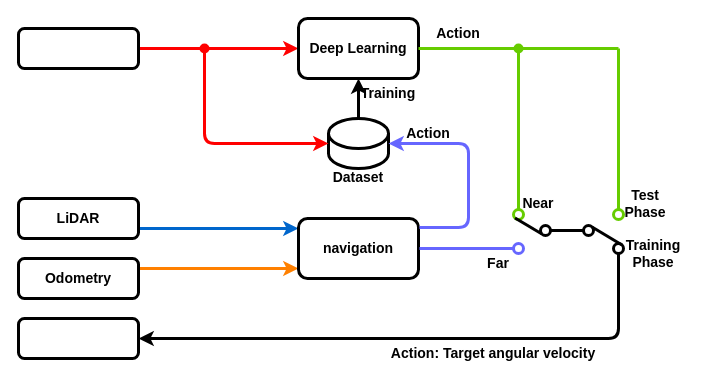
The diagram is 701 pixels wide and 386 high, and some of its shapes have lost their labels. Each missing label, with the centre of its shape:
Camera: (78,48)
Motor: (78,338)
